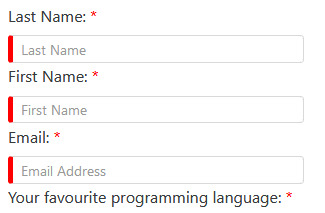_form_: (1, 1, 325, 213)
field: (6, 33, 305, 64), (7, 95, 305, 124), (7, 155, 305, 184)
field_with_label: (4, 8, 307, 65), (5, 71, 307, 126), (6, 131, 307, 185)
